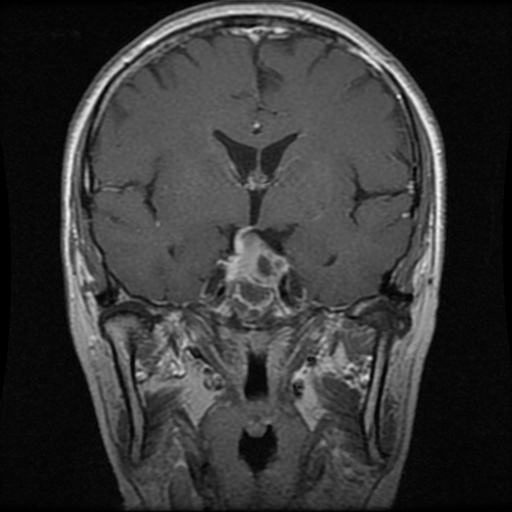pituitary: (223, 226, 290, 323)
